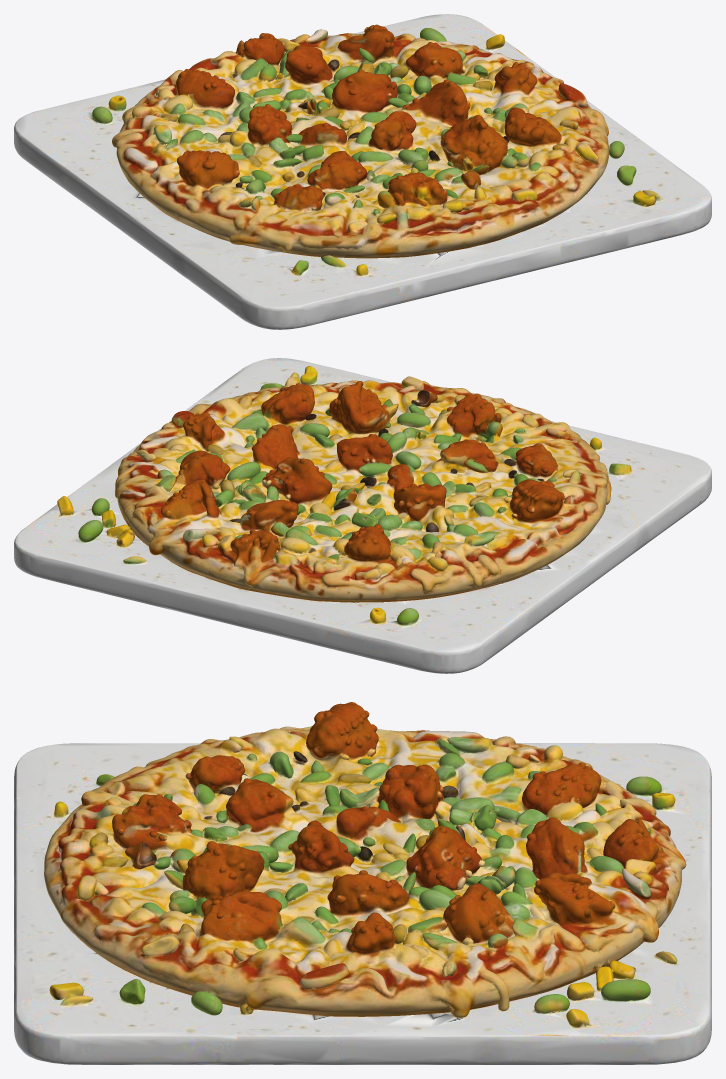
File: pizza.glb
3 renders of one model, top to bottom at view 1: azimuth 30°, elevation 25°; view 2: azimuth 150°, elevation 25°; view 3: azimuth 270°, elevation 25°, orthographic. The views are drawn at different scales.
Size of the model in its own units: 1.9 by 0.3511 by 1.9.
Materials: 1 (1 with a texture image).
